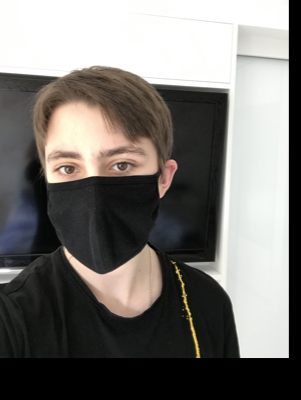with_mask: (45, 125, 160, 275)
